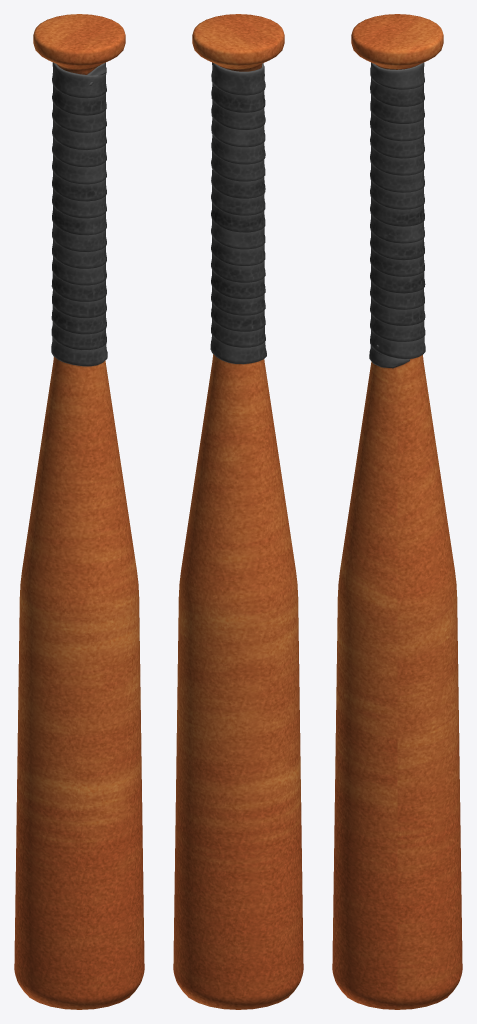
Rendered from BaseBall_Bat.fbx.
3 renders of one model, left to right at view 1: azimuth 90°, elevation 25°; view 2: azimuth 150°, elevation 25°; view 3: azimuth 270°, elevation 25°, orthographic.
Visible parts, largest first — view 1: Bat, Grip; view 2: Bat, Grip; view 3: Bat, Grip.
Part boxes in pixels (<box>): Bat: <box>14,14,144,1009</box>; Grip: <box>51,62,107,366</box>; Bat: <box>173,14,303,1009</box>; Grip: <box>210,62,266,364</box>; Bat: <box>332,14,462,1009</box>; Grip: <box>369,62,425,368</box>.
Size of the model in its own units: 2.68 by 21.73 by 2.68.
